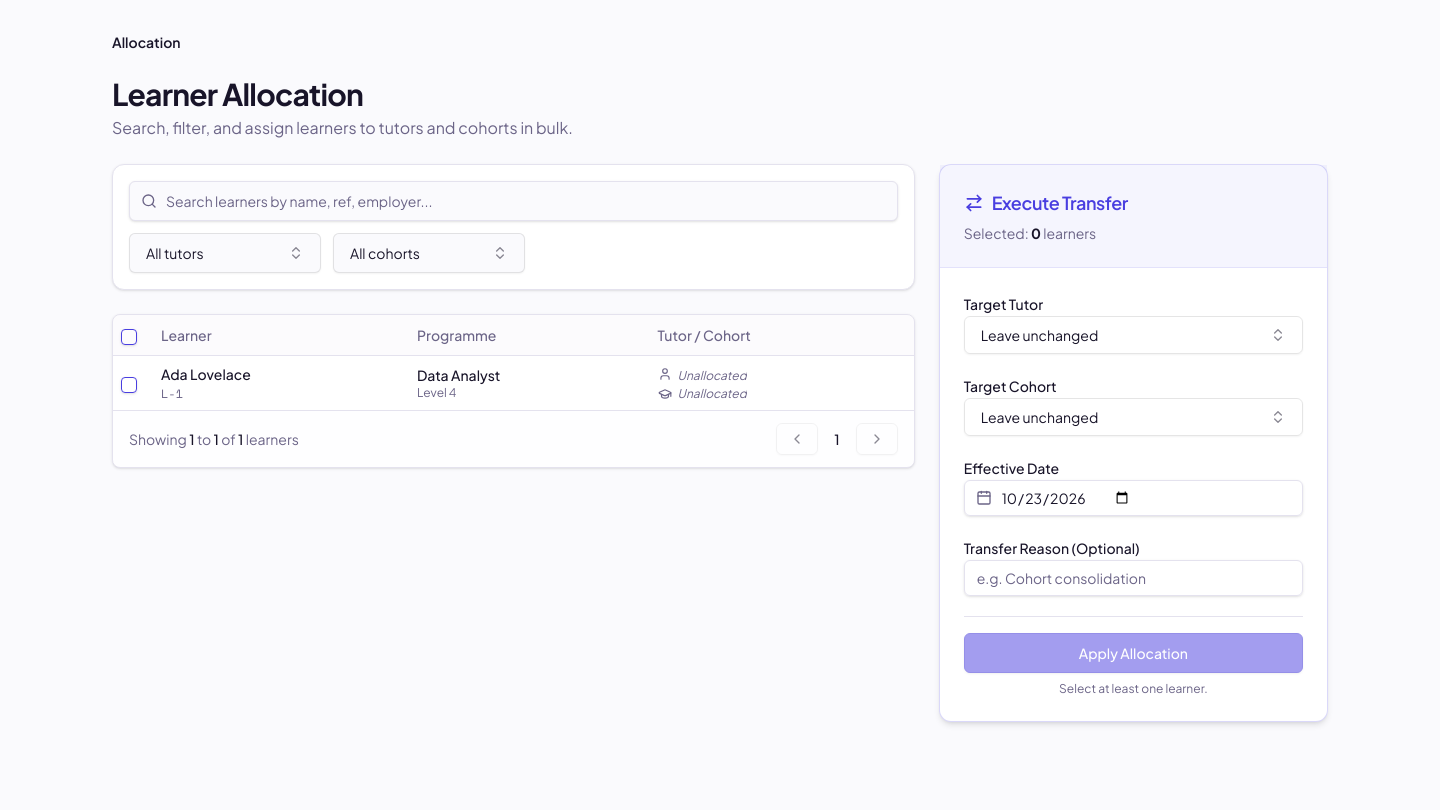
AllocationPage › shows "Select at least one learner" until a learner is selected, then "Choose a new tutor or cohort" until a target is picked
The image size is (1440, 810).
Expected: the text "Select at least one learner." is shown, [1059,681,1208,696]
Expected: the button "Apply Allocation" is disabled, [964,633,1303,673]
Click the checkbox named "select ada lovelace" at coordinates (129, 384), box [121,376,137,392]
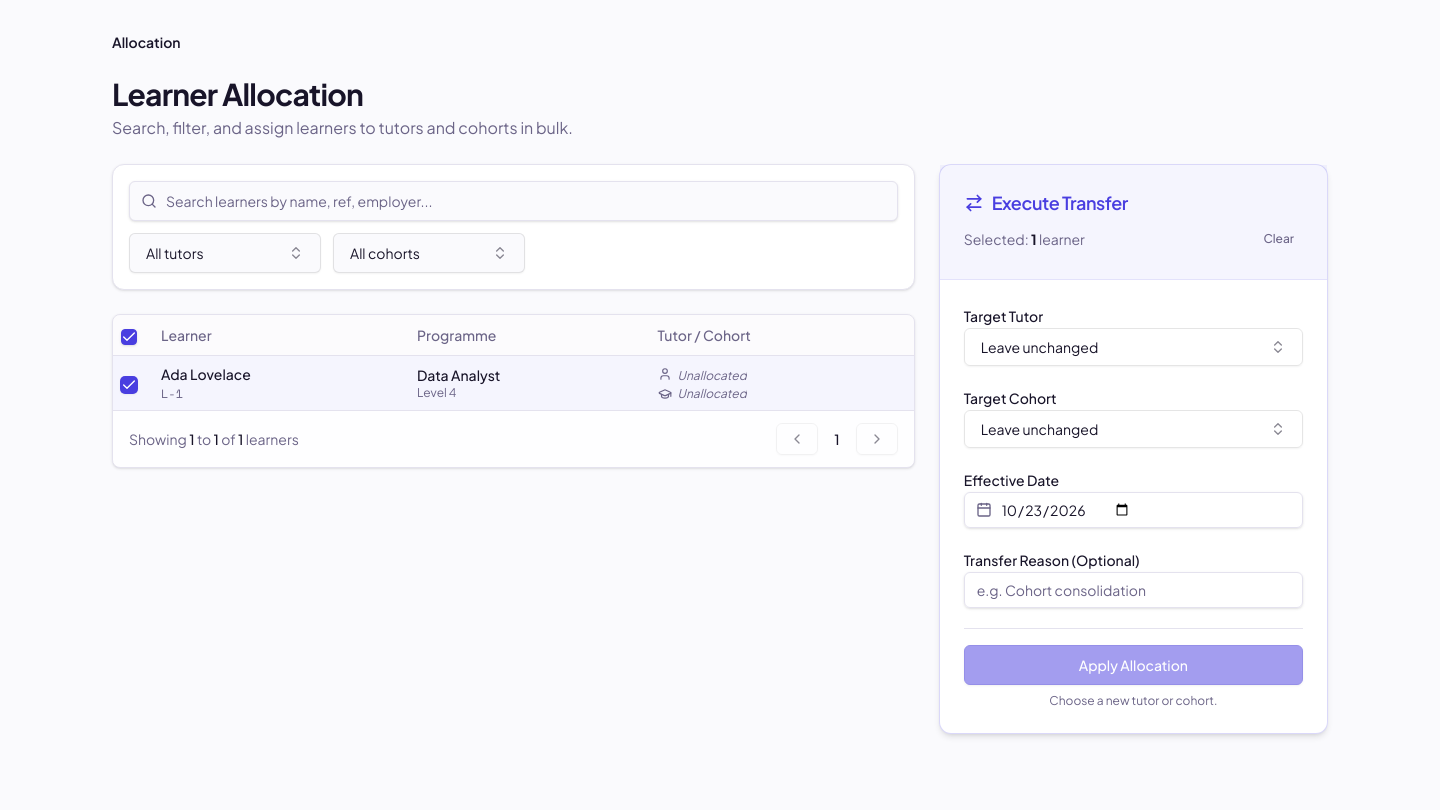
Expected: the button "Apply Allocation" is disabled, [964,645,1303,685]
Expected: the text "Choose a new tutor or cohort." is shown, [1049,693,1217,708]
Click the dropdown named "target tutor" at coordinates (1039, 347), box [964,328,1303,366]
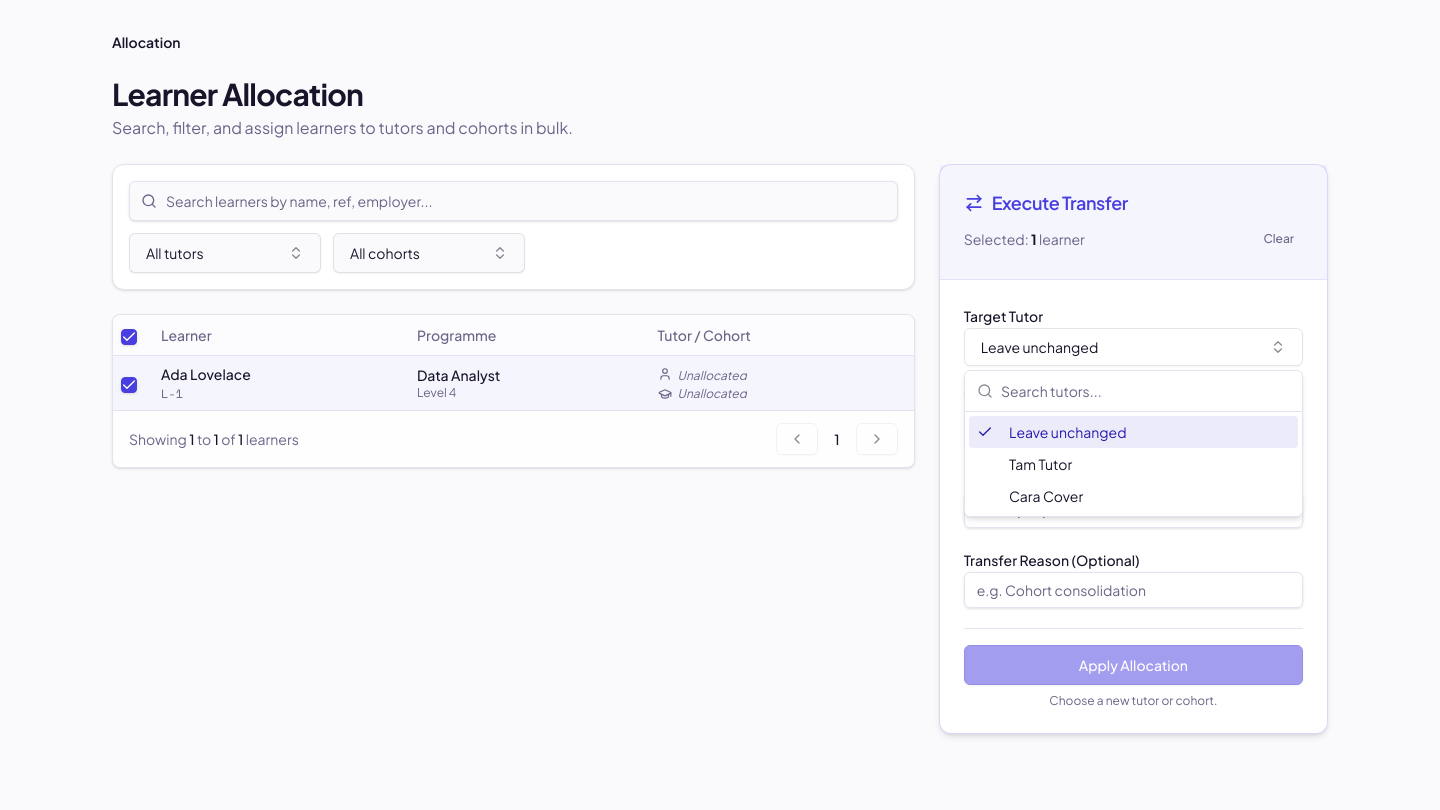
Click the option "Cara Cover" at coordinates (1046, 496), box [1009,487,1083,505]
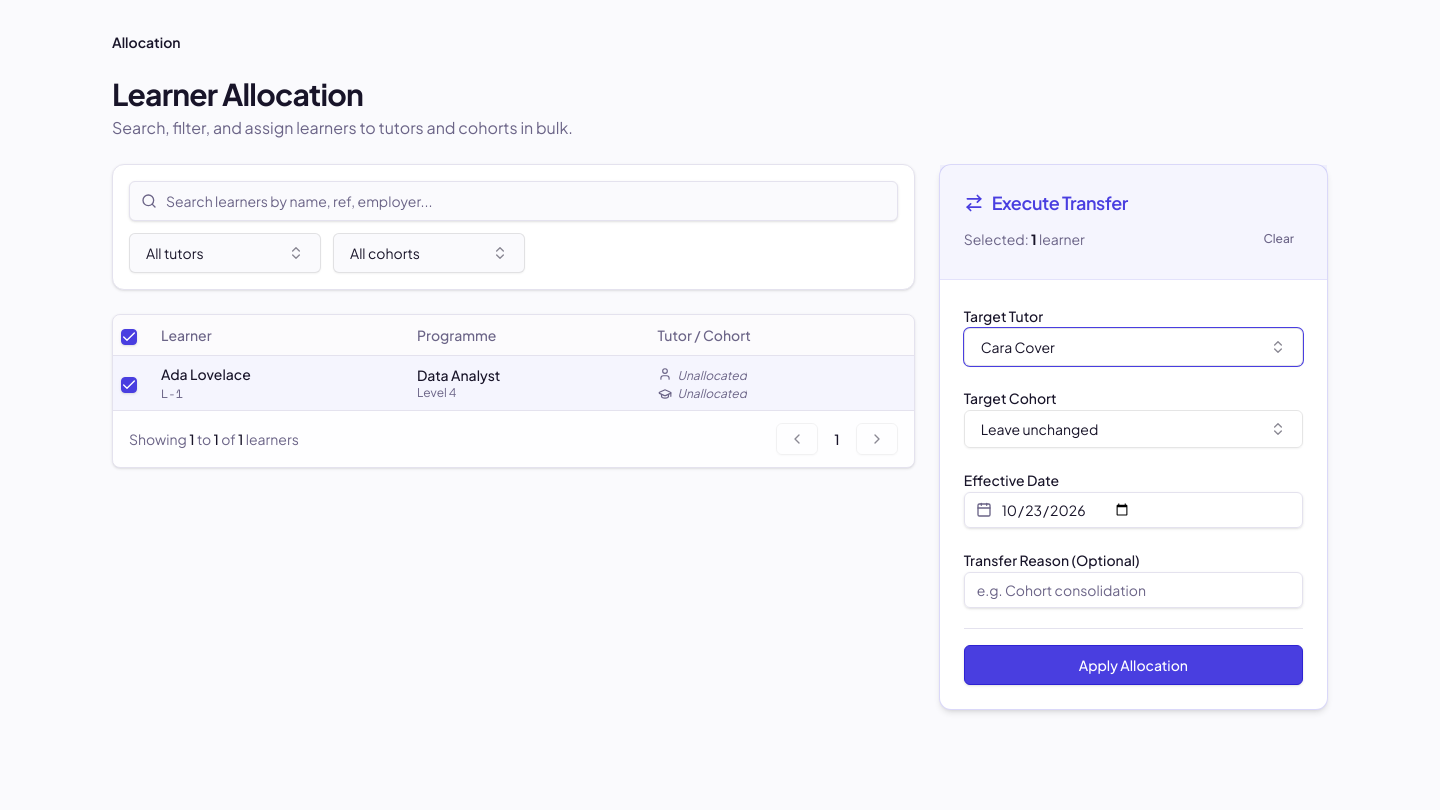
Expected: the text "Choose a new tutor or cohort." is gone
Expected: the button "Apply Allocation" is enabled, [964,645,1303,685]
